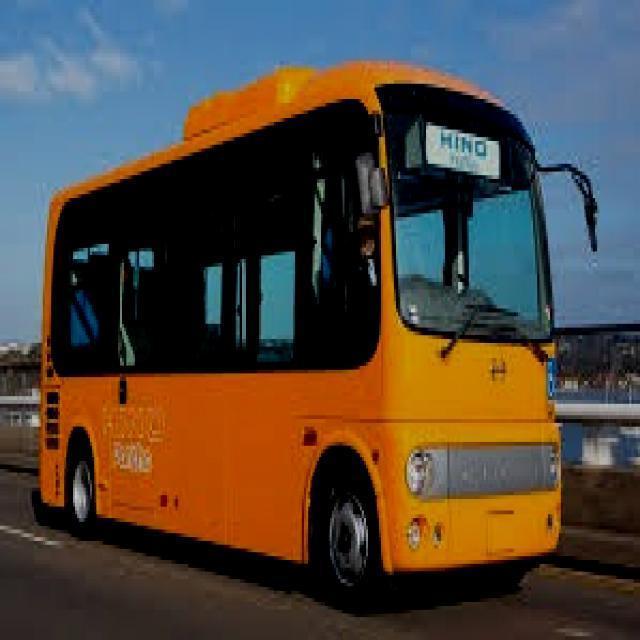Bus: (32, 43, 587, 622)
